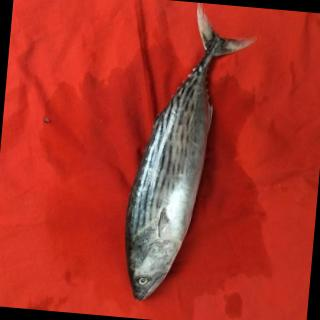Ikan: (114, 6, 256, 314)
